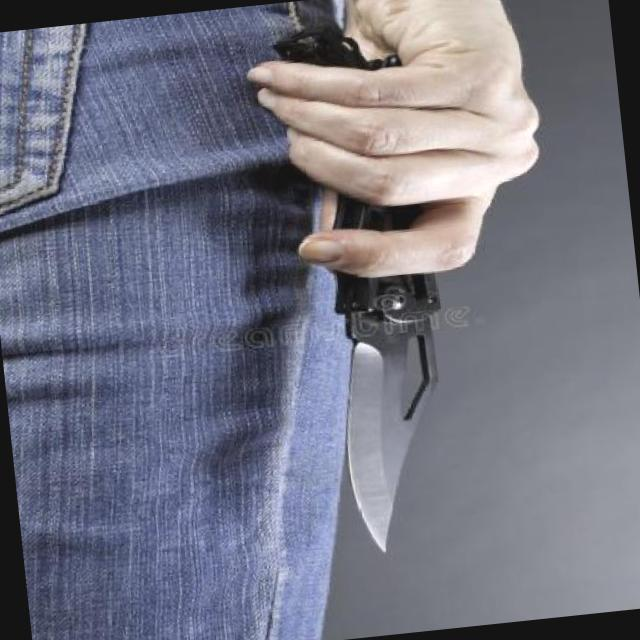knife: (318, 232, 482, 564)
